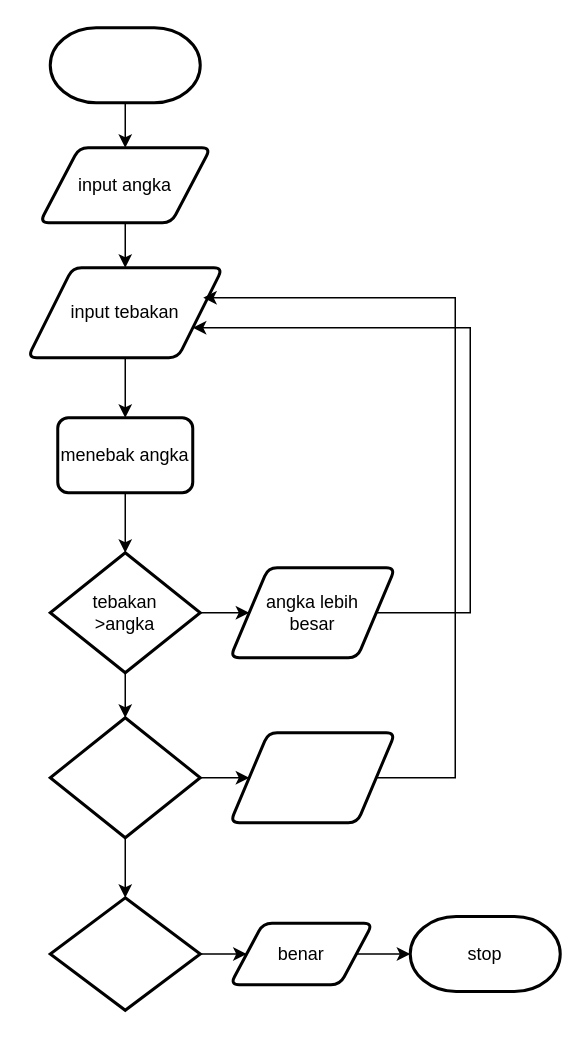
Image size: 587x1037. Some labels were removed from this diagram. The centre of each missing label's shape, as x and y in pixels:
angka lebih kecil: point (312, 777)
start: point (124, 65)
tebakan <angka: point (124, 777)
tebakan =angka: point (124, 953)
